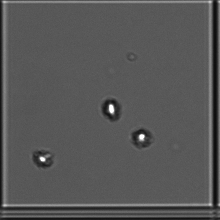Living Cell: (131, 119, 154, 155), (33, 148, 61, 175), (101, 91, 123, 124)
